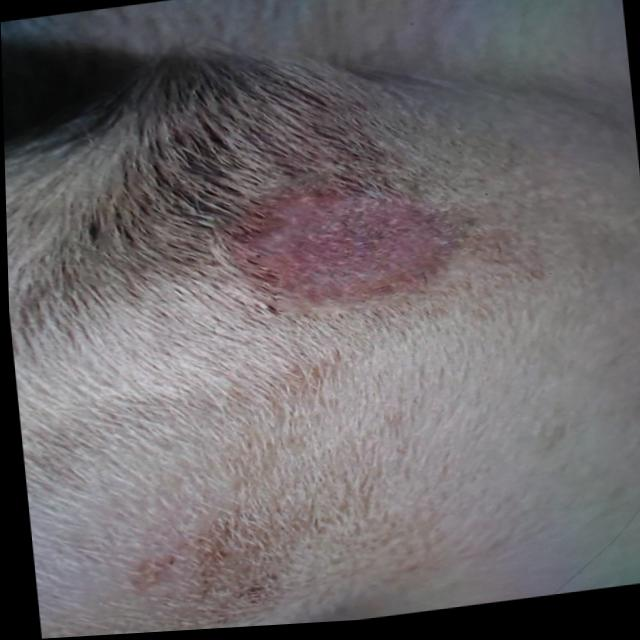ringworm: (219, 161, 492, 335)
